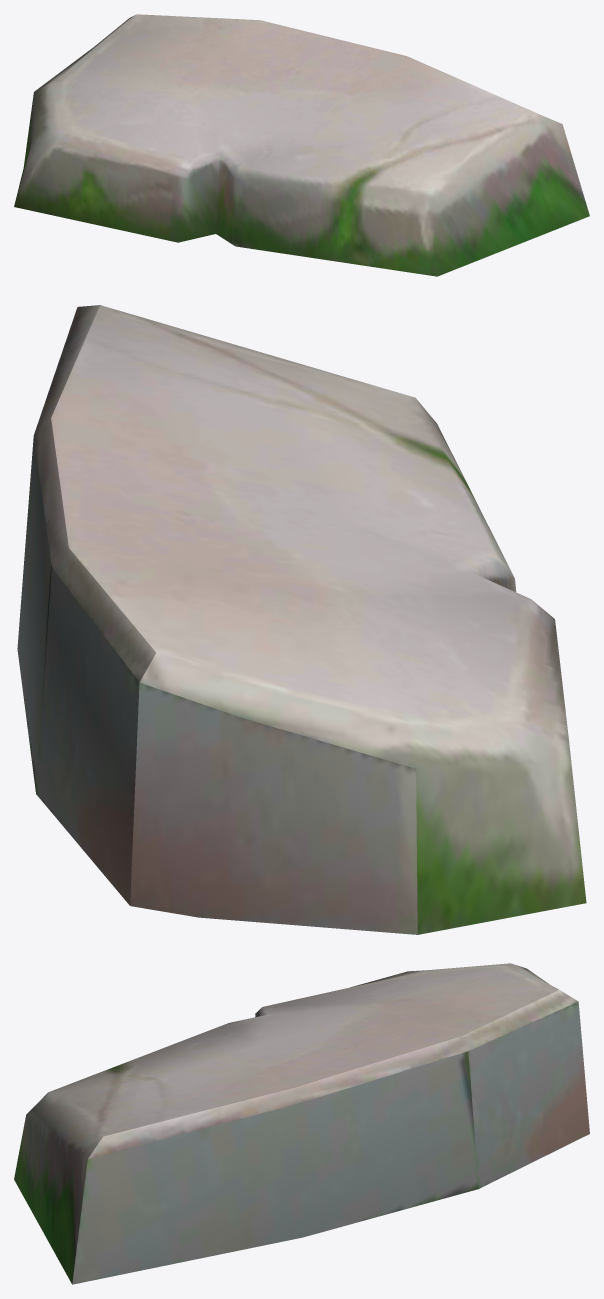
File: ZhuCheng_Shitou_03.fbx
3 renders of one model, top to bottom at view 1: azimuth 30°, elevation 25°; view 2: azimuth 150°, elevation 25°; view 3: azimuth 270°, elevation 25°, orthographic. The views are drawn at different scales.
Visible parts, largest first — view 1: ZhuCheng_Shitou_03; view 2: ZhuCheng_Shitou_03; view 3: ZhuCheng_Shitou_03.
Boxes of the visible parts, x1=… form: ZhuCheng_Shitou_03: x1=14, y1=14, x2=589, y2=276; ZhuCheng_Shitou_03: x1=17, y1=305, x2=586, y2=934; ZhuCheng_Shitou_03: x1=14, y1=963, x2=589, y2=1284.
Bounding box in the file's own units: 2.81 × 0.7658 × 2.71.
